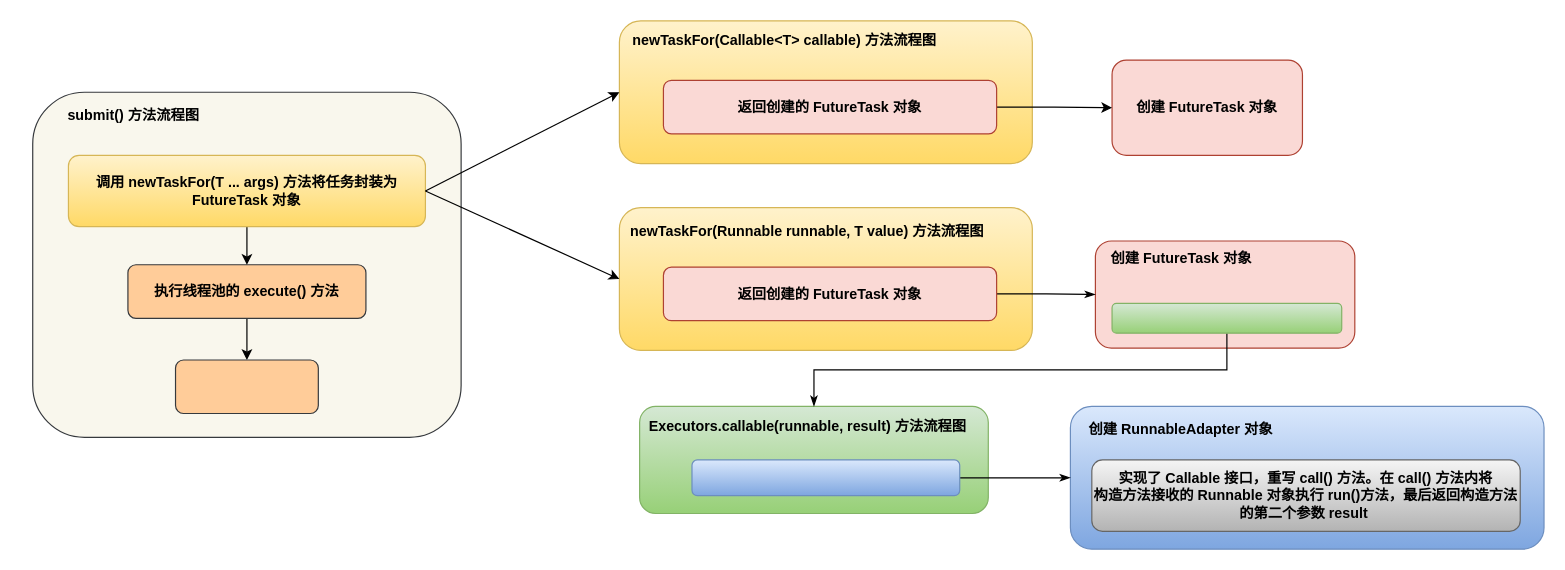
This 1565x570 diagram has some shape labels left out. Each missing label, with the centre of its shape:
调用 Executors.callable(): the point at 1226,317
返回 Future 对象: the point at 246,386
返回创建的 RunnableAdapter 对象: the point at 825,477
